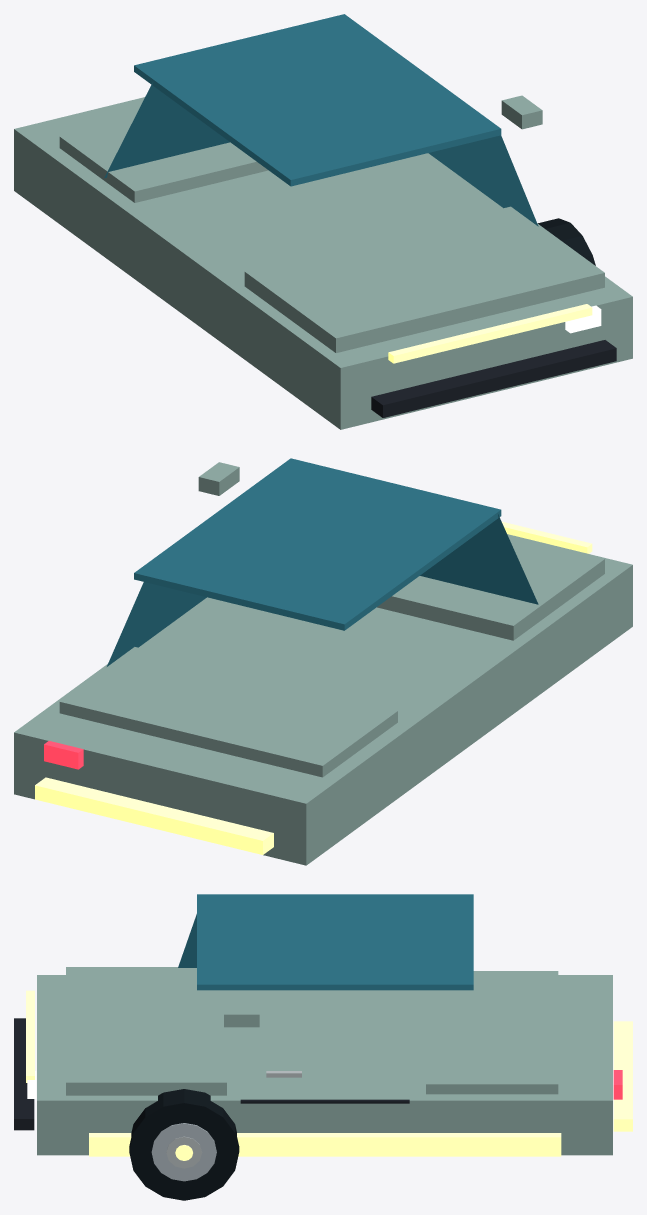
3 views of the same model, one above another, from view 1: azimuth 30°, elevation 25°; view 2: azimuth 150°, elevation 25°; view 3: azimuth 270°, elevation 25° (orthographic). The views are drawn at different scales.
Parts seen in each view (by area): view 1: sculpted lower body, panoramic EV roof, formed hood, faceted glass cabin, rear deck, front splitter, front light bar, side mirror, rubber tire; view 2: sculpted lower body, panoramic EV roof, rear deck, formed hood, faceted glass cabin, rear diffuser, front light bar, side mirror, rear LED; view 3: sculpted lower body, panoramic EV roof, formed hood, rear deck, side skirt, rubber tire, machined wheel face, rear diffuser, front splitter, door seam, front light bar, side mirror (+2 smaller).
Boxes of the visible parts, left/top/right/bottom form: sculpted lower body: left=14, top=97, right=632, bottom=429; panoramic EV roof: left=134, top=14, right=501, bottom=186; formed hood: left=244, top=206, right=604, bottom=352; faceted glass cabin: left=104, top=81, right=538, bottom=226; rear deck: left=59, top=118, right=268, bottom=202; front splitter: left=371, top=340, right=616, bottom=417; front light bar: left=388, top=304, right=592, bottom=363; side mirror: left=501, top=95, right=542, bottom=129; rubber tire: left=538, top=218, right=595, bottom=265; sculpted lower body: left=14, top=534, right=632, bottom=865; panoramic EV roof: left=134, top=458, right=501, bottom=630; rear deck: left=59, top=647, right=397, bottom=777; formed hood: left=377, top=535, right=604, bottom=640; faceted glass cabin: left=107, top=514, right=538, bottom=666; rear diffuser: left=35, top=777, right=273, bottom=854; front light bar: left=502, top=521, right=592, bottom=553; side mirror: left=198, top=462, right=239, bottom=495; rear LED: left=44, top=741, right=83, bottom=769; sculpted lower body: left=37, top=975, right=612, bottom=1155; panoramic EV roof: left=197, top=894, right=473, bottom=990; formed hood: left=66, top=967, right=226, bottom=1095; rear deck: left=426, top=971, right=558, bottom=1094; side skirt: left=89, top=1133, right=561, bottom=1156; rubber tire: left=129, top=1089, right=239, bottom=1200; machined wheel face: left=151, top=1123, right=216, bottom=1181; rear diffuser: left=613, top=1021, right=632, bottom=1131; front splitter: left=14, top=1018, right=34, bottom=1130; door seam: left=240, top=1099, right=409, bottom=1103; front light bar: left=26, top=990, right=34, bottom=1082; side mirror: left=224, top=1006, right=259, bottom=1027.
Size of the model in its own units: 2.52 by 1.63 by 4.84.
